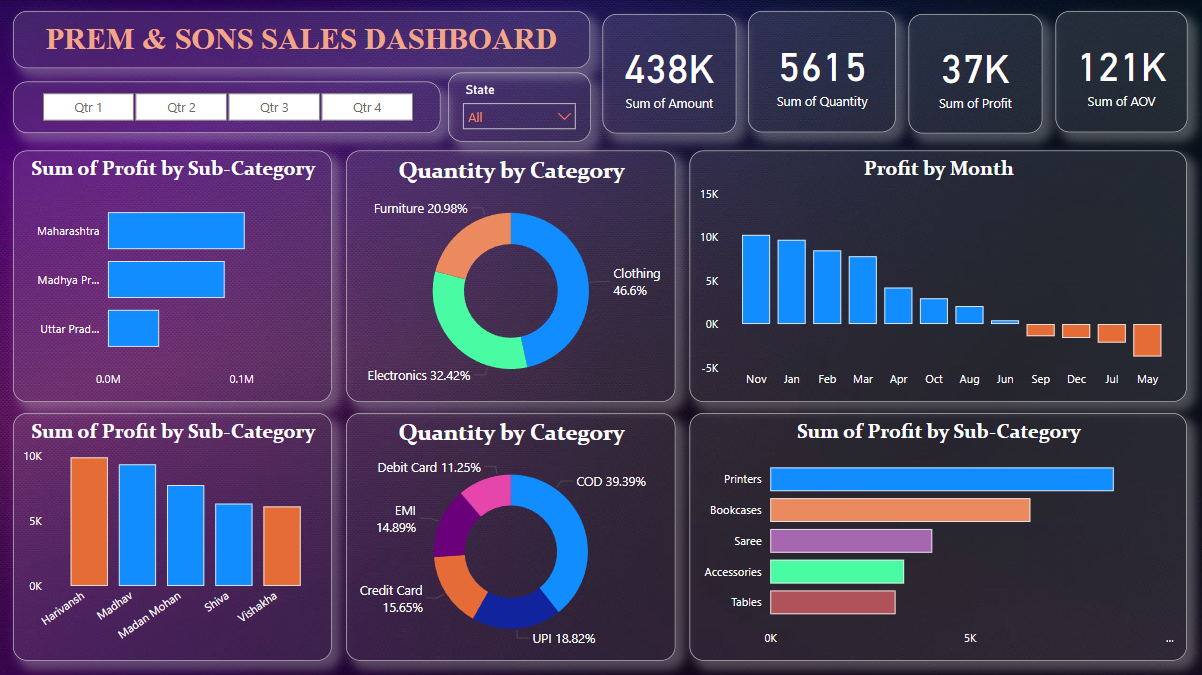

This screenshot's page, from the dashboard's own definition file:
{"tool":"powerbi","page":{"name":"Page 1","canvas":[1280,720],"ordinal":0},"visuals":[{"type":"textbox","box":[15.1,13.2,612.3,60.5],"z":0},{"type":"barChart","title":"Sum of Profit by Sub-Category","fields":{"Category":["Details.Sub_Category"],"Y":["Details.Profit"]},"box":[733.2,438.4,527.2,262.7],"z":1000},{"type":"columnChart","title":"Profit by Month","fields":{"Y":["Details.Profit"],"Category":["Orders.Month Name"]},"box":[733.2,160.6,527.2,266.5],"z":2000},{"type":"donutChart","title":"Quantity by Category","fields":{"Category":["Details.Category"],"Y":["Details.Quantity"]},"box":[368.5,160.6,349.6,266.5],"z":3000},{"type":"donutChart","title":"Quantity by Category","fields":{"Y":["Details.Quantity"],"Category":["Details.Payment_Mode"]},"box":[368.5,438.4,349.6,262.7],"z":4000},{"type":"card","fields":{"Values":["Details.Amount"]},"box":[640.6,15.1,141.7,126.6],"z":5000},{"type":"card","fields":{"Values":["Details.Quantity"]},"box":[795.6,13.2,156.9,128.5],"z":6000},{"type":"card","fields":{"Values":["Details.Profit"]},"box":[965.7,15.1,141.7,126.6],"z":7000},{"type":"card","fields":{"Values":["Details.AOV"]},"box":[1120.6,13.2,139.8,128.5],"z":8000},{"type":"barChart","title":"Sum of Profit by Sub-Category","fields":{"Category":["Orders.State"],"Y":["Details.Amount"]},"box":[15.1,160.6,338.3,266.5],"z":9000},{"type":"columnChart","title":"Sum of Profit by Sub-Category","fields":{"Category":["Orders.Custome_Name"],"Y":["Details.Amount"]},"box":[15.1,438.4,338.3,262.7],"z":10000},{"type":"slicer","fields":{"Values":["Orders.Order_Date.Variation.Date Hierarchy.Quarter"]},"box":[15.1,86.9,453.5,54.8],"z":11000},{"type":"slicer","fields":{"Values":["Orders.State"]},"box":[477.2,77.9,151.1,73.2],"z":12000}]}

Visuals, with their boxes in screenshot pixels (x1, y1, x2, y2), scaled from the page's 1280x720 canvas onto the 1202x675 screenshot:
textbox: <region>14, 12, 589, 69</region>
"Sum of Profit by Sub-Category" barChart: <region>689, 411, 1184, 657</region>
"Profit by Month" columnChart: <region>689, 151, 1184, 400</region>
"Quantity by Category" donutChart: <region>346, 151, 674, 400</region>
"Quantity by Category" donutChart: <region>346, 411, 674, 657</region>
card - Details.Amount: <region>602, 14, 735, 133</region>
card - Details.Quantity: <region>747, 12, 894, 133</region>
card - Details.Profit: <region>907, 14, 1040, 133</region>
card - Details.AOV: <region>1052, 12, 1184, 133</region>
"Sum of Profit by Sub-Category" barChart: <region>14, 151, 332, 400</region>
"Sum of Profit by Sub-Category" columnChart: <region>14, 411, 332, 657</region>
slicer - Orders.Order_Date.Variation.Date Hierarchy.Quarter: <region>14, 81, 440, 133</region>
slicer - Orders.State: <region>448, 73, 590, 142</region>
